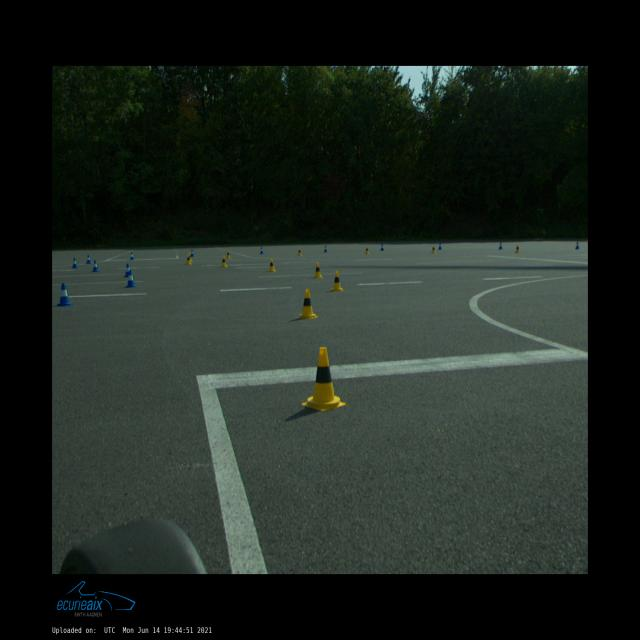blue_cone: (57, 284, 72, 306), (126, 270, 136, 288), (124, 264, 130, 277), (92, 260, 99, 271), (72, 258, 78, 268), (86, 254, 91, 264), (129, 252, 134, 260), (576, 241, 580, 249), (260, 247, 264, 254), (190, 249, 194, 256), (438, 243, 442, 249), (380, 244, 384, 250), (499, 242, 502, 249), (324, 246, 327, 252)
yellow_cone: (302, 347, 346, 411), (298, 289, 318, 319), (331, 271, 343, 291), (312, 262, 324, 278), (268, 258, 276, 272), (221, 256, 227, 267), (186, 254, 192, 264), (187, 252, 192, 262), (431, 245, 436, 253), (297, 248, 302, 256), (226, 250, 231, 258), (365, 246, 369, 254), (515, 245, 519, 252)
